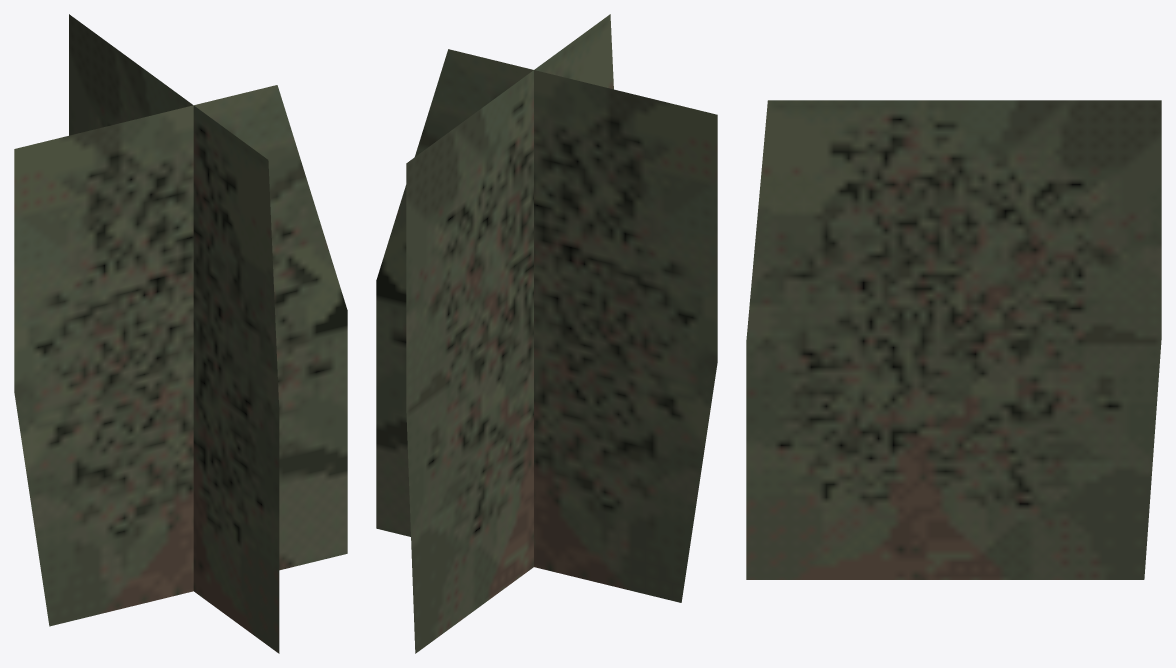
File: oak_tree_a_billboard.fbx
The picture shows the model from 3 angles, left to right: view 1: azimuth 30°, elevation 25°; view 2: azimuth 150°, elevation 25°; view 3: azimuth 270°, elevation 25°; orthographic projection. The views are drawn at different scales.
Visible parts, largest first — view 1: Billboard; view 2: Billboard; view 3: Billboard.
Boxes of the visible parts, left/top/right/bottom form: Billboard: left=14, top=14, right=347, bottom=653; Billboard: left=376, top=14, right=717, bottom=653; Billboard: left=746, top=100, right=1161, bottom=579.
Bounding box in the file's own units: 609 × 848 × 665.
